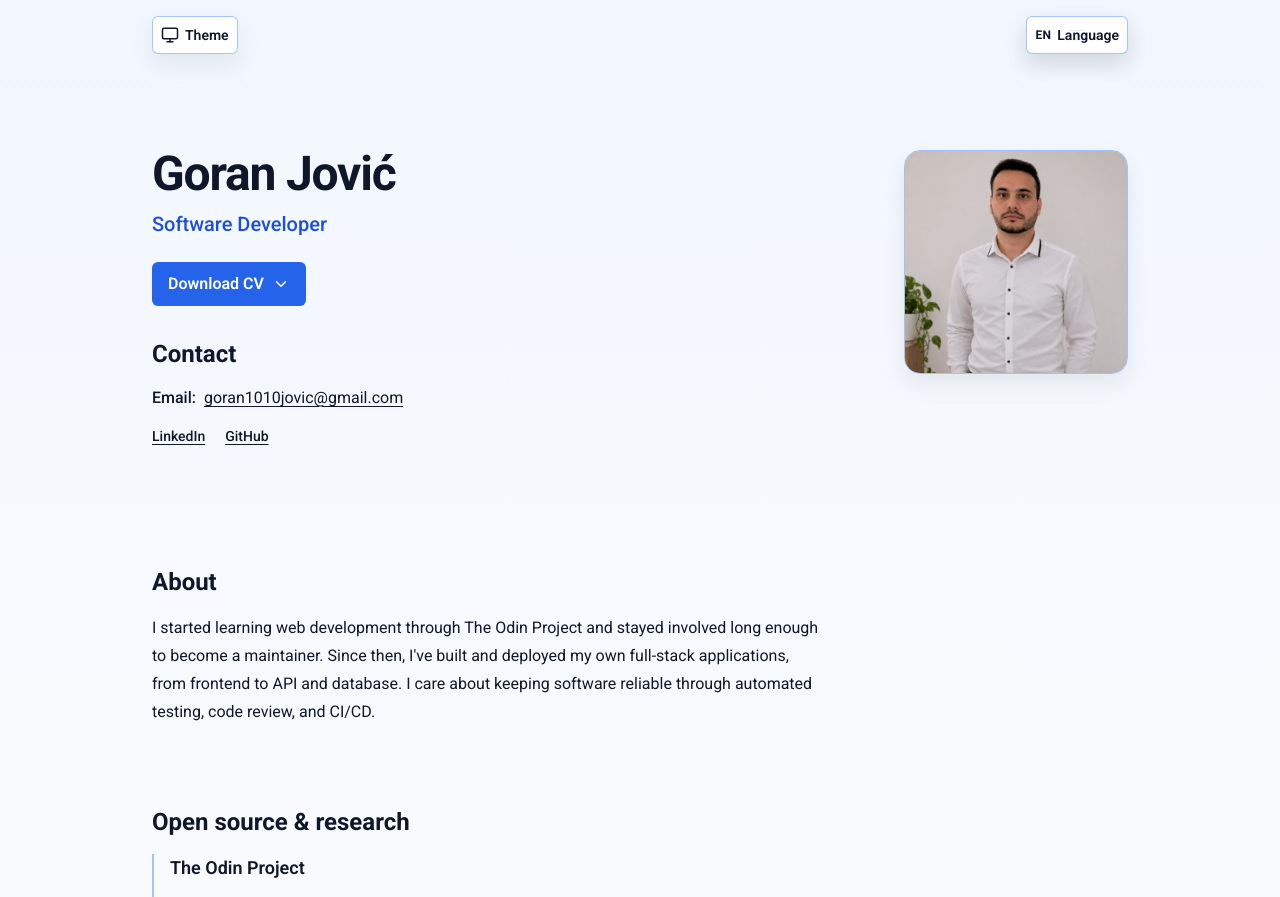
it: App › switches the page text to Serbian from the language switcher
The width and height of the screenshot is (1280, 897).
Later steps or results of the test are not shown.
Expected: the text "Software Developer" is shown, [152,212,327,236]
Expected: the button "Download CV" is shown, [152,262,306,306]
Click the button with aria-label "Language:" at coordinates (1077, 35), box [1026,16,1128,54]
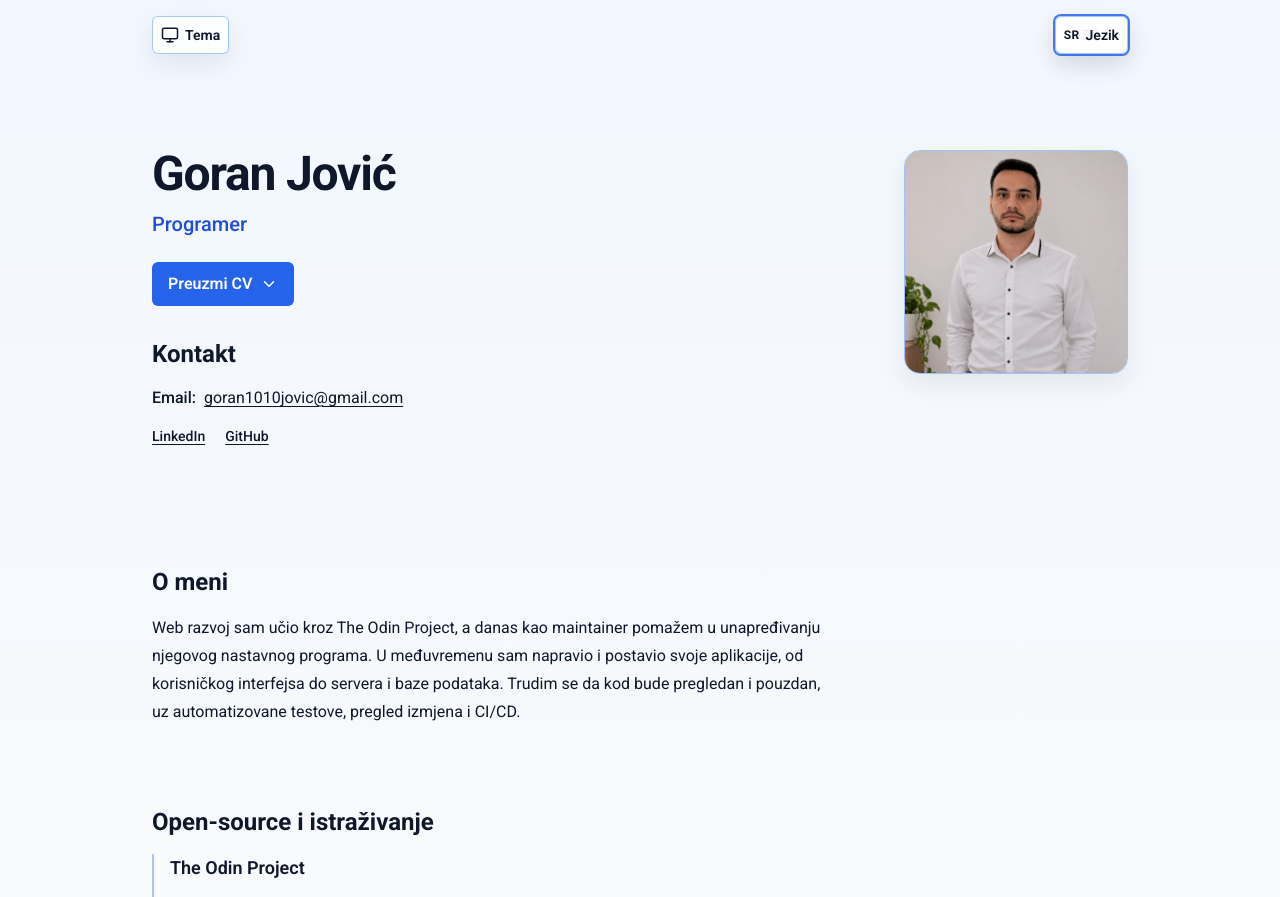
Result: the text "Programer" is shown at [152,212,247,236]
Result: the button "Preuzmi CV" is shown
Click the button "Preuzmi CV" at coordinates (223, 284), box [152,262,294,306]
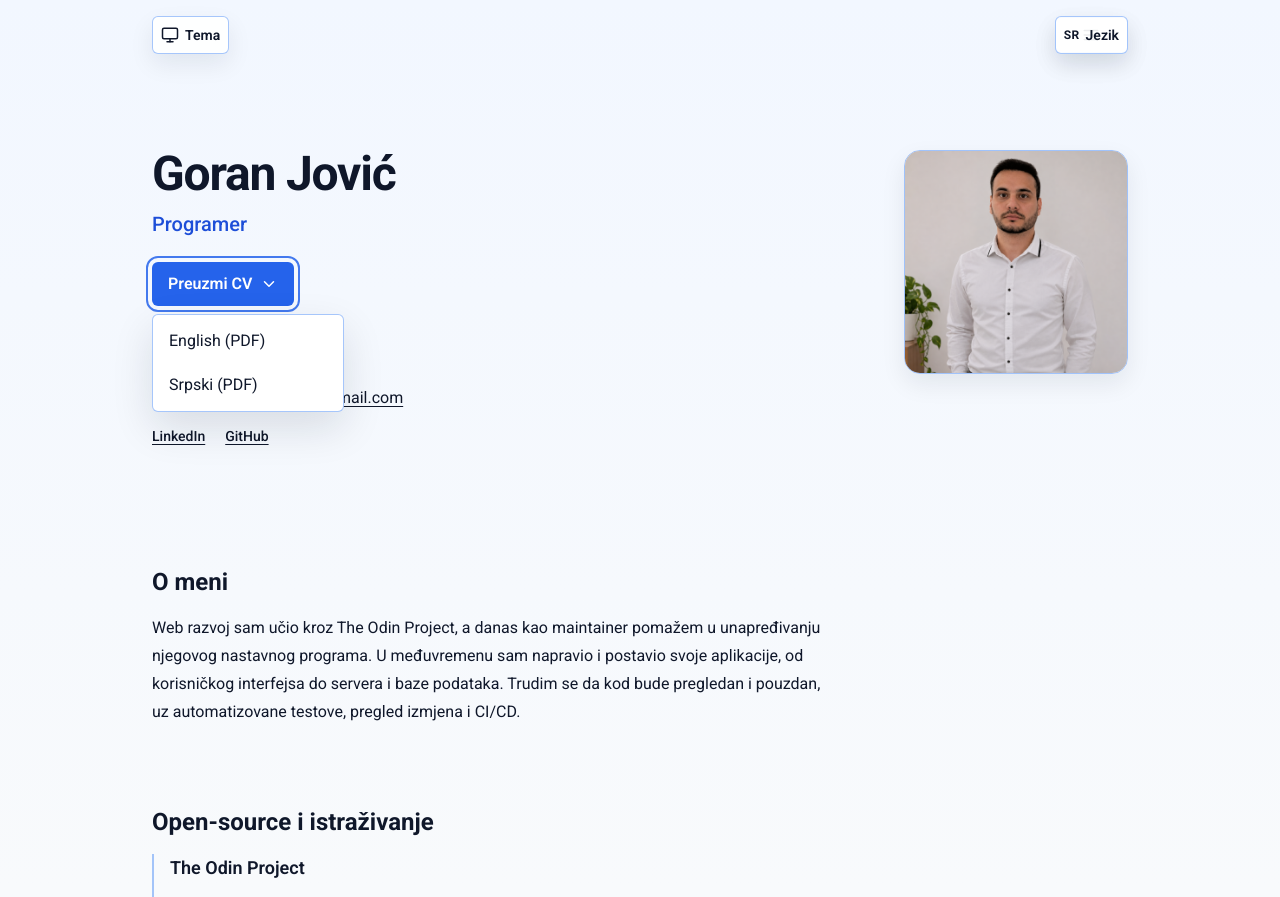
Result: the element "O meni" shows "Web razvoj sam učio kroz The Odin Project" at [152,618,820,721]
